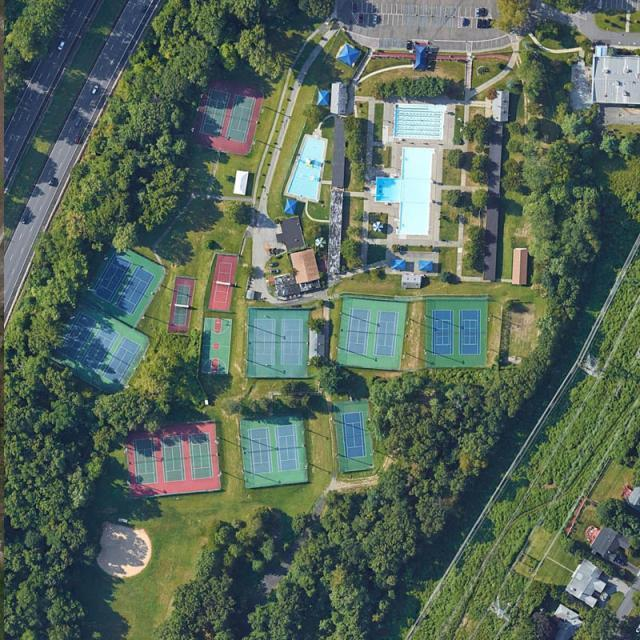vehicle: (75, 133, 82, 143), (58, 42, 66, 50), (91, 86, 99, 94), (70, 110, 77, 119), (75, 118, 82, 126), (49, 178, 56, 186), (373, 14, 378, 25), (358, 14, 363, 25), (352, 3, 357, 13), (481, 19, 486, 28), (476, 7, 480, 17), (462, 17, 466, 27), (477, 18, 481, 28), (406, 40, 410, 50), (482, 7, 486, 16), (486, 20, 490, 28)
